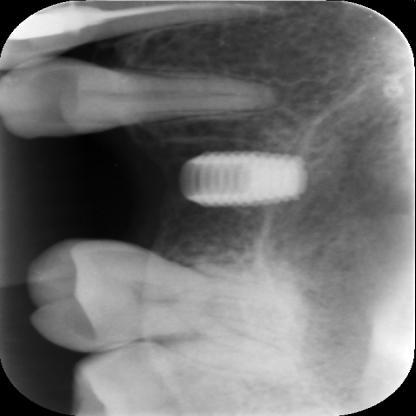Bicon: (176, 144, 312, 215)
